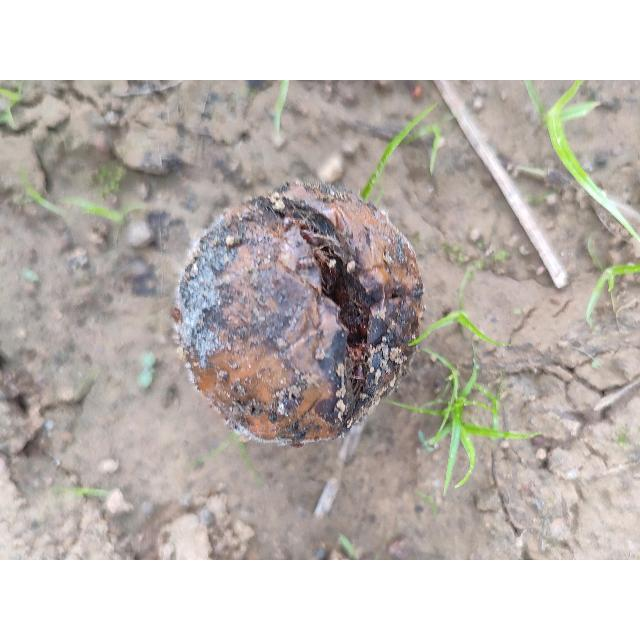damaged: (174, 182, 423, 445)
